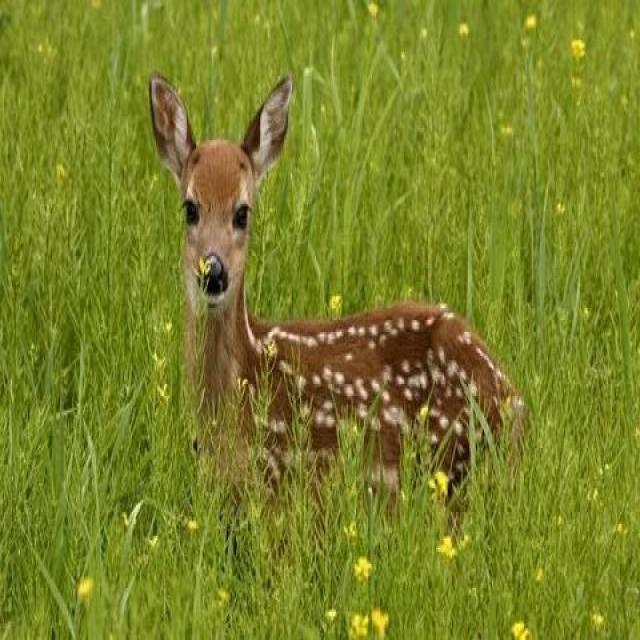deer: (119, 49, 548, 540)
